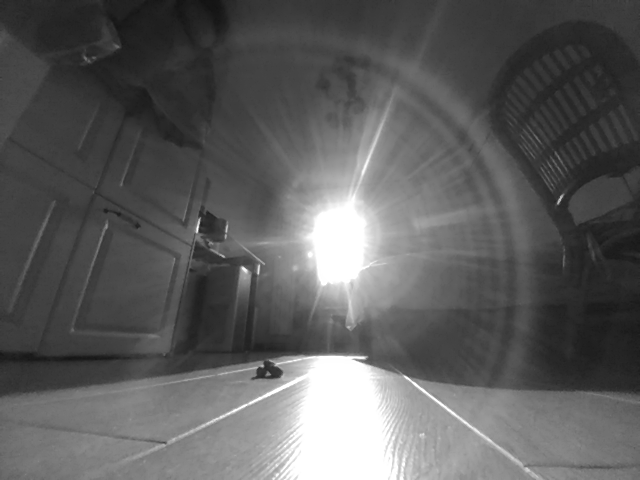pet feces: (256, 358, 285, 380)
